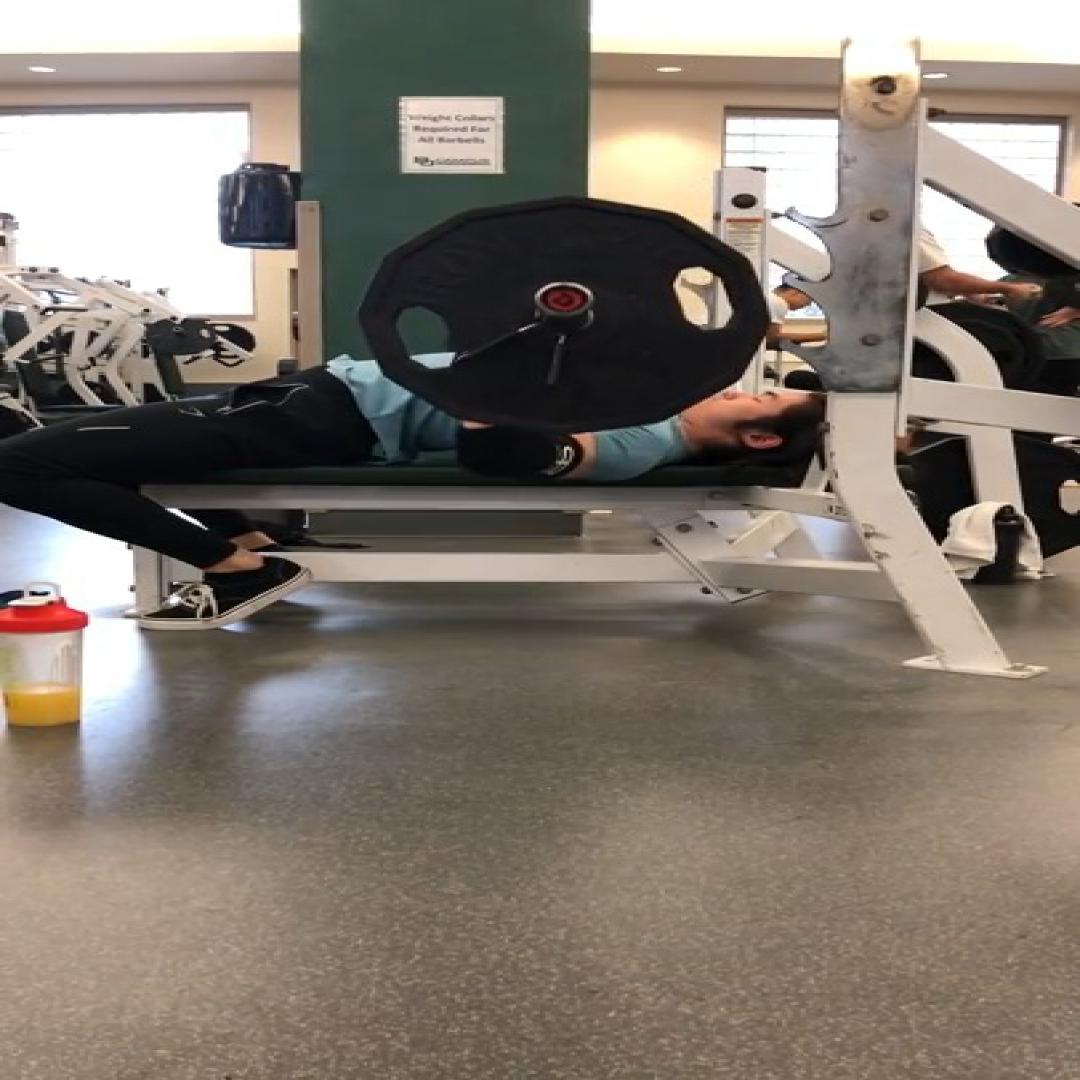Bar: (532, 280, 596, 318)
Barbell: (356, 195, 772, 433)
